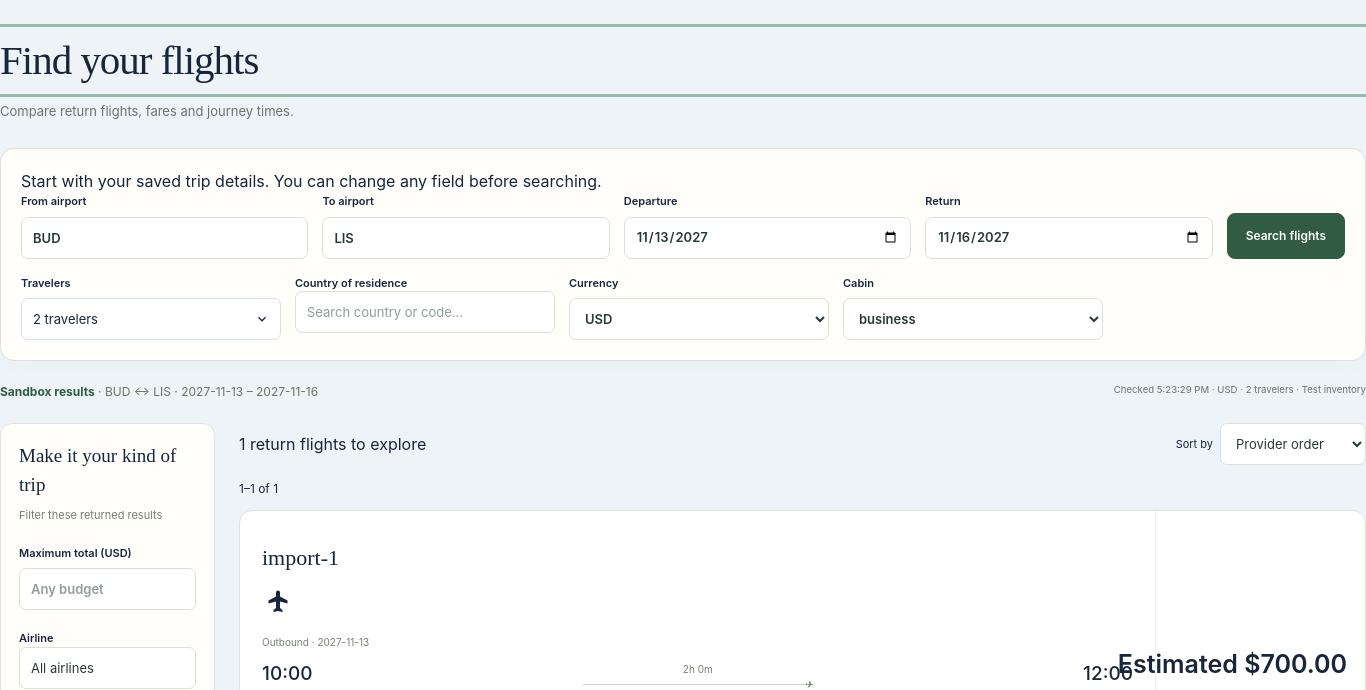
Scenario: closed flight picker exposes a missing infant age before searching
The width and height of the screenshot is (1366, 690).
Click the button "2 travelers" at (71, 319), box [21,298,281,340]
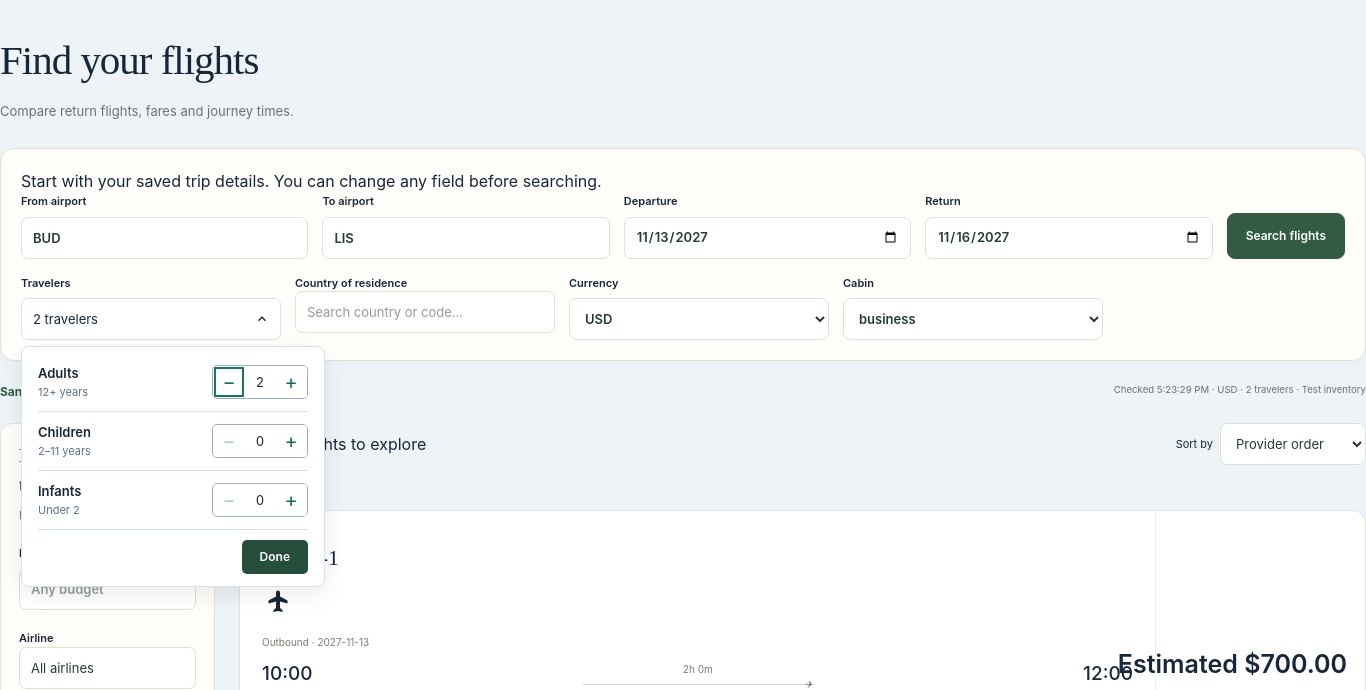
Click the button named "Add infant" at (291, 500), box [275,484,307,516]
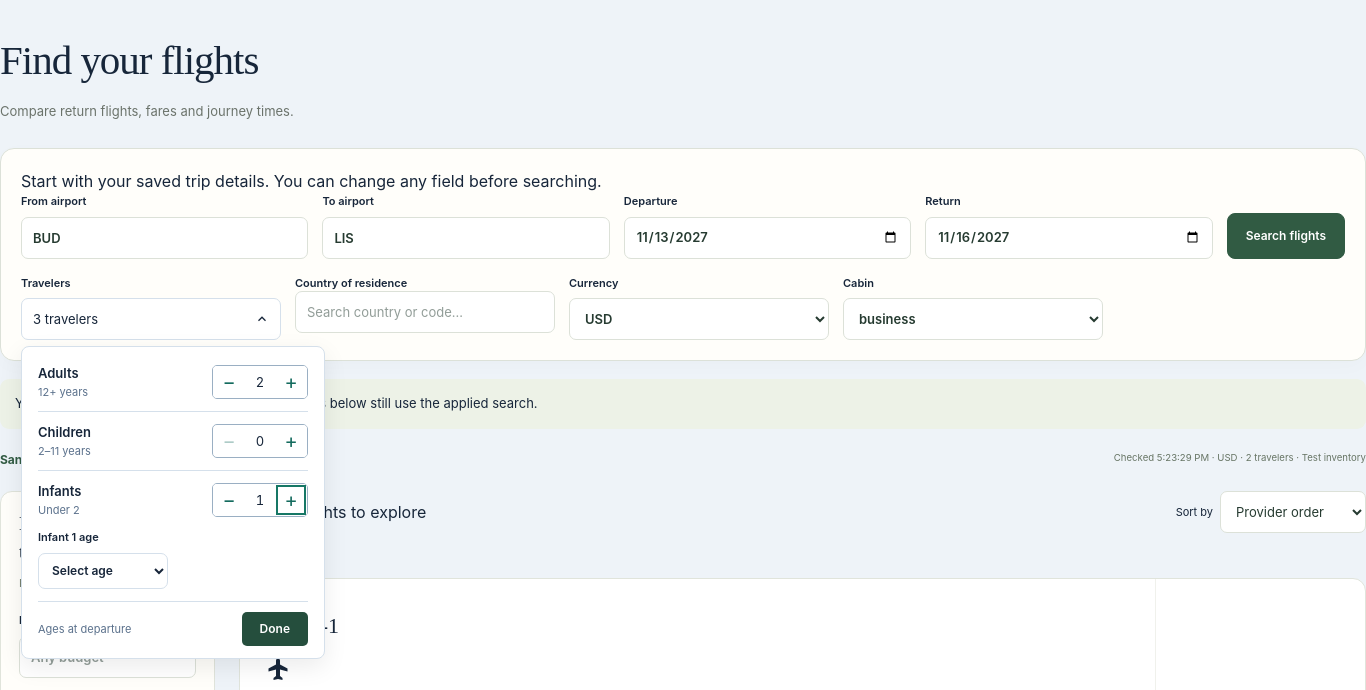
Press Escape
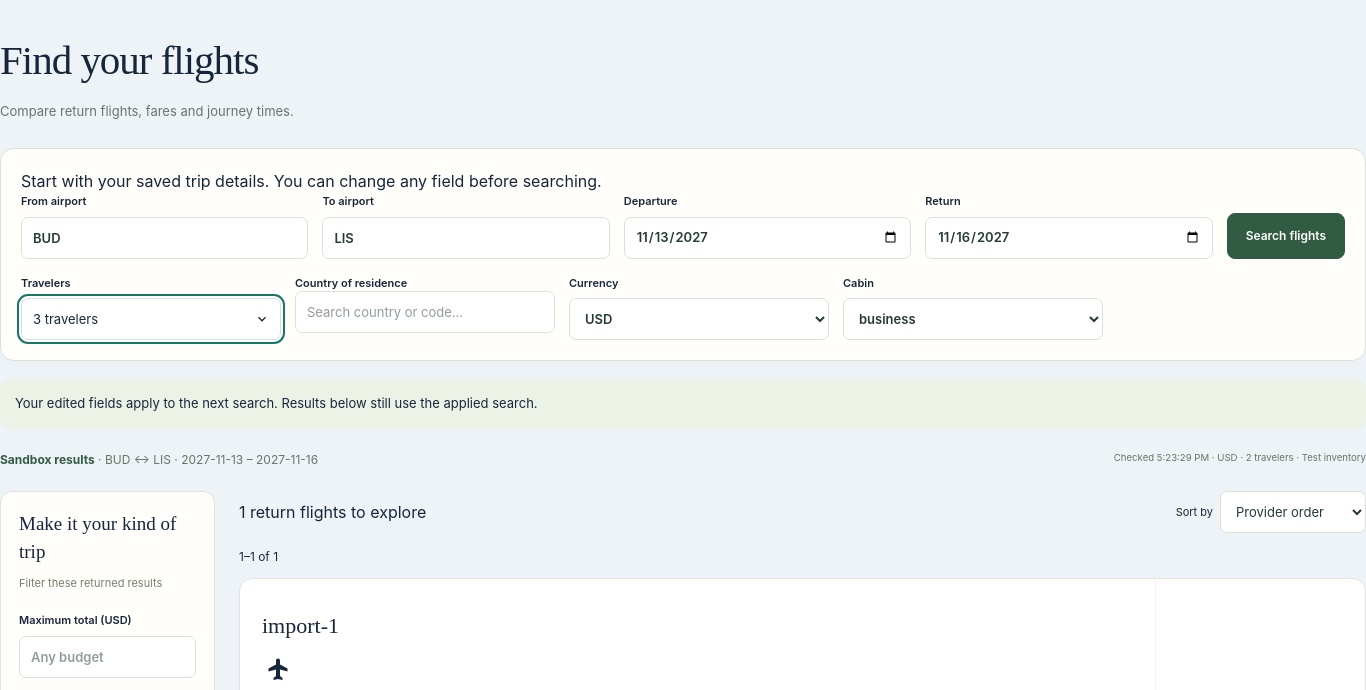
Check: the button "3 travelers" is collapsed, box [21,298,281,340]
Click the button "Search flights" at (1286, 236), box [1227,213,1345,259]
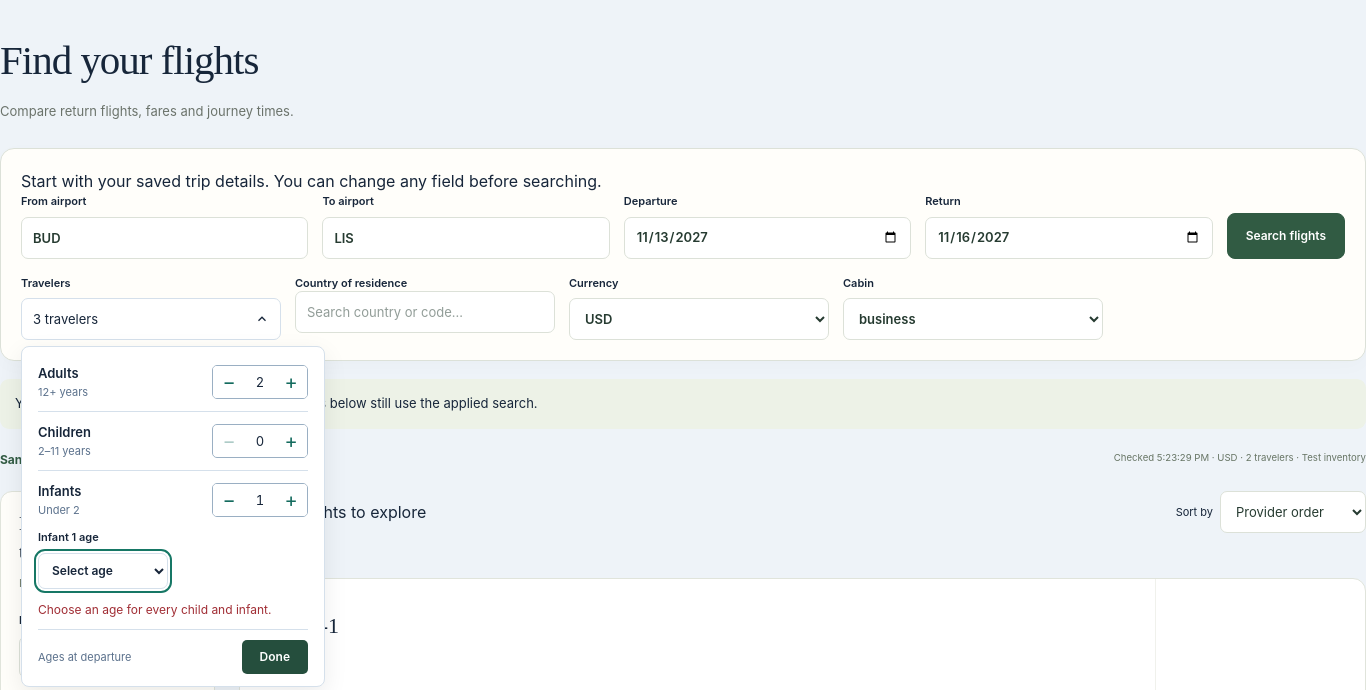
Check: the button "3 travelers" is expanded, box [21,298,281,340]
